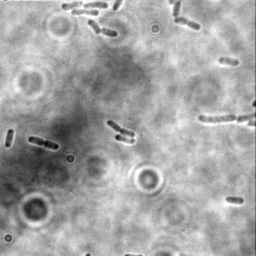Dividing: (105, 118, 137, 139), (27, 134, 61, 152), (174, 15, 203, 32), (70, 7, 101, 18)
Rod: (198, 112, 239, 126), (216, 55, 243, 68), (4, 126, 17, 150), (86, 18, 103, 36), (60, 1, 84, 12), (170, 1, 183, 20), (83, 1, 110, 10), (99, 27, 120, 38), (224, 194, 245, 205)
